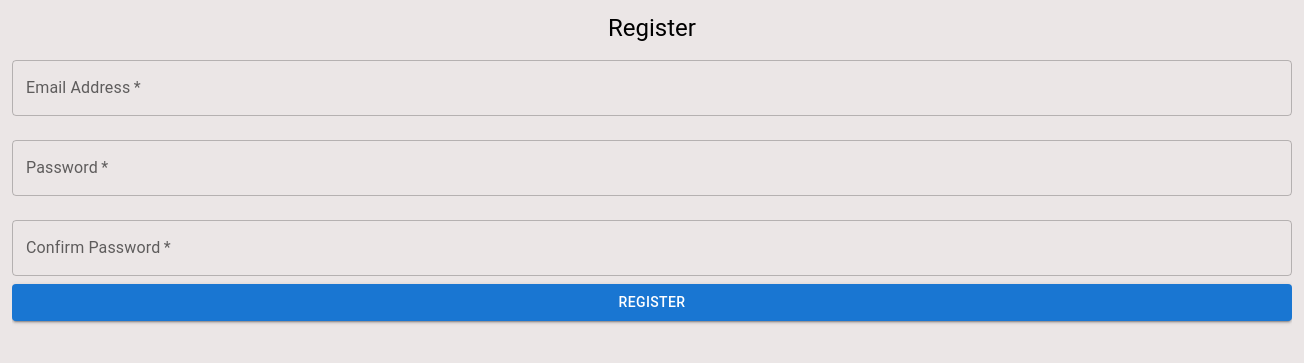
Test: RegistrationFormFields › validates password length
Type "test@gmail.com" into the field labelled "Email Address *" at (652, 88), box [12, 60, 1292, 116]
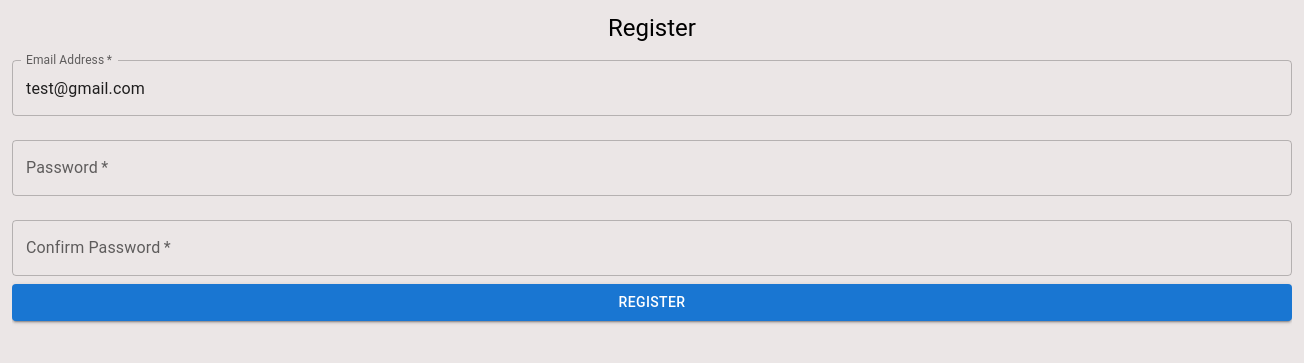
Type "test" into the password field labelled "Password *" at (652, 168), box [12, 140, 1292, 196]
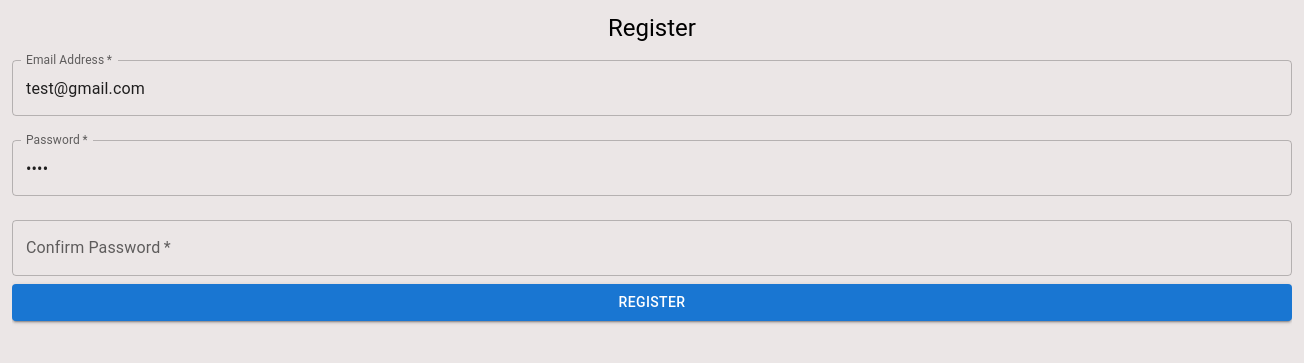
Type "test" into the password field labelled "Confirm Password *" at (652, 248), box [12, 220, 1292, 276]
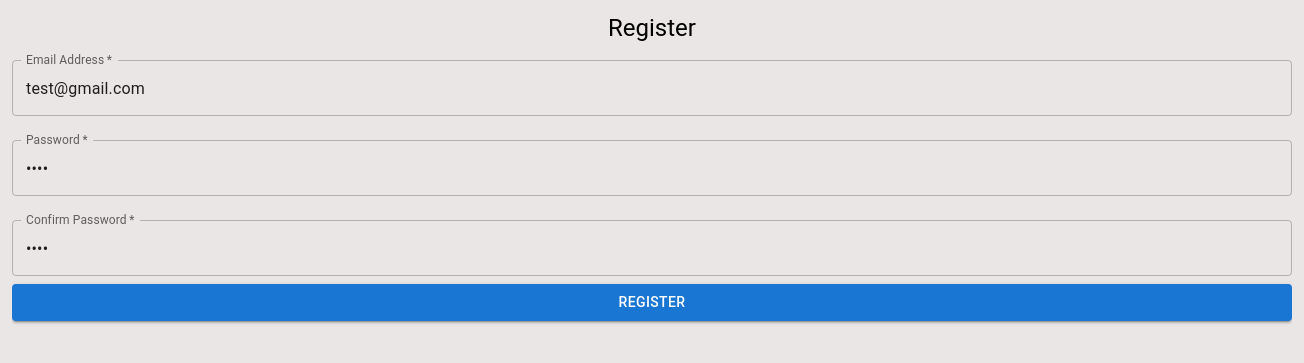
Click the button with test id "register-button" at (652, 302), box [12, 284, 1292, 320]
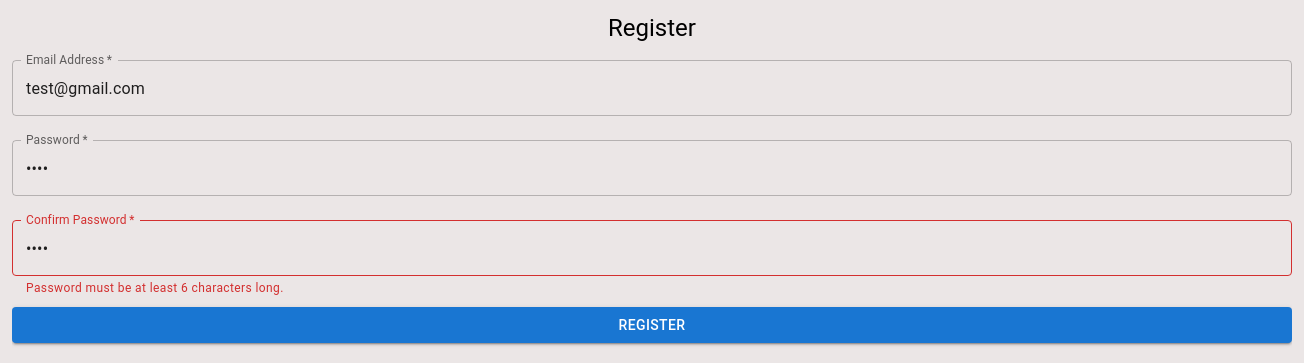
Check: the text "Password must be at least 6 characters long." is shown, box [26, 281, 284, 295]
